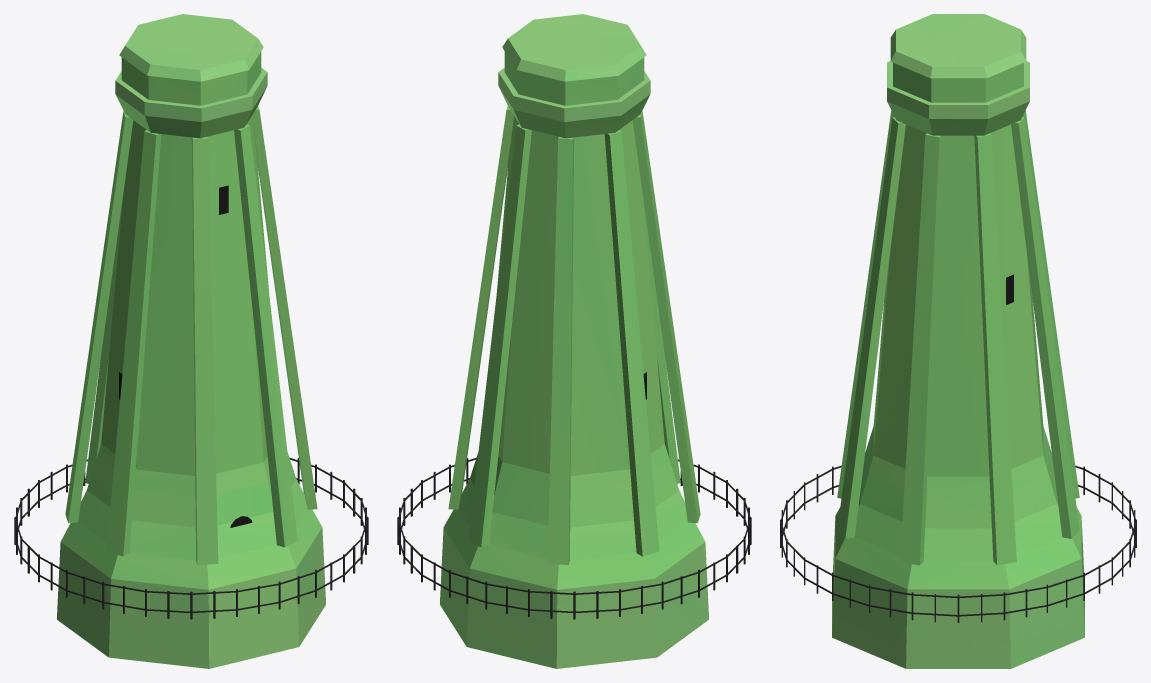
File: hardy.glb
3 renders of one model, left to right at view 1: azimuth 30°, elevation 25°; view 2: azimuth 150°, elevation 25°; view 3: azimuth 270°, elevation 25°, orthographic.
Parts seen in each view (by area): view 1: tower#far, railing; view 2: tower#far, railing; view 3: tower#far, railing.
Part boxes in pixels (box(x1,y1,x2,y2)): tower#far: box(57, 14, 325, 668); railing: box(14, 458, 368, 619); tower#far: box(440, 14, 708, 668); railing: box(397, 458, 751, 619); tower#far: box(832, 14, 1084, 668); railing: box(780, 465, 1136, 622).
Bounding box in the file's own units: 14.06 × 25 × 14.06.
